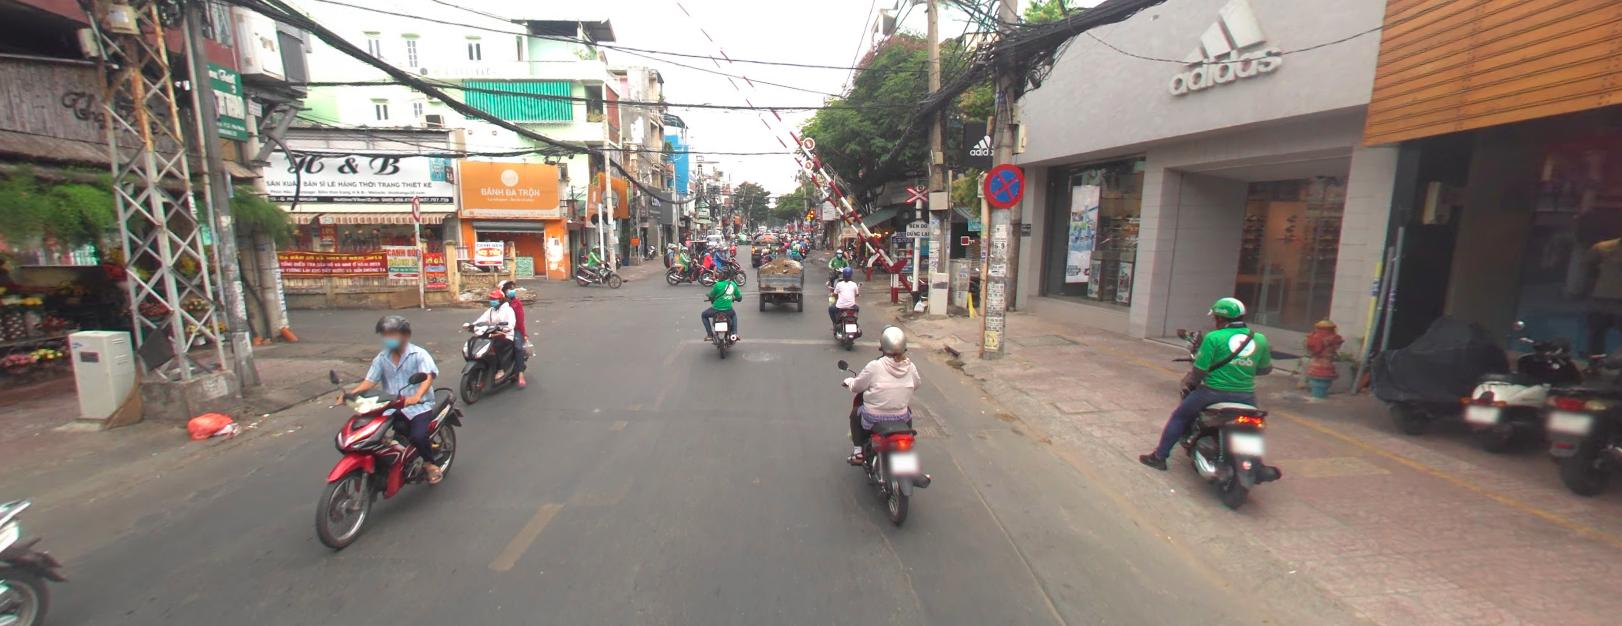Cam con lai: (411, 193, 423, 220)
Cam dung va do: (981, 160, 1021, 206)
